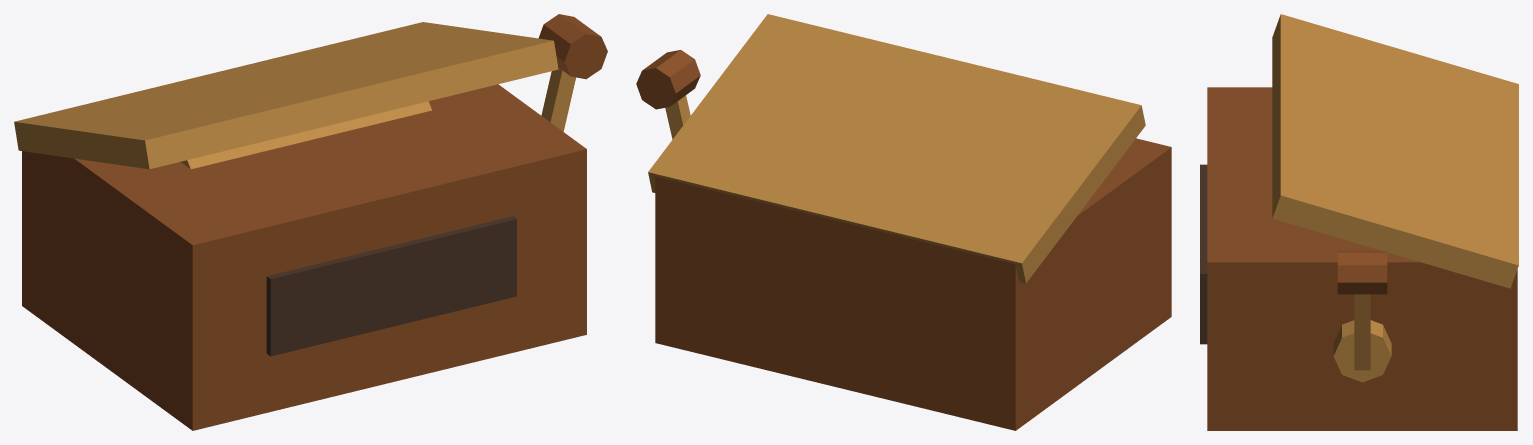
File: music_box.glb
3 renders of one model, left to right at view 1: azimuth 30°, elevation 25°; view 2: azimuth 150°, elevation 25°; view 3: azimuth 270°, elevation 25°, orthographic. The views are drawn at different scales.
Visible parts, largest first — view 1: MusicBoxBody, MusicBoxLid, Inset, CrankHandle, MusicCylinder, Crank; view 2: MusicBoxBody, MusicBoxLid, CrankHandle, Crank; view 3: MusicBoxBody, MusicBoxLid, CrankHandle, CrankHub, Inset, Crank.
Boxes of the visible parts, x1,y1,x2,y2 form: MusicBoxBody: (22,84,586,430); MusicBoxLid: (14,22,558,169); Inset: (266,216,516,356); CrankHandle: (538,14,607,79); MusicCylinder: (181,101,432,169); Crank: (541,67,575,131); MusicBoxBody: (655,138,1171,430); MusicBoxLid: (648,14,1145,283); CrankHandle: (636,50,700,109); Crank: (665,95,690,139); MusicBoxBody: (1207,87,1517,430); MusicBoxLid: (1272,14,1518,288); CrankHandle: (1337,251,1387,294); CrankHub: (1333,320,1391,382); Inset: (1200,164,1207,344); Crank: (1354,294,1370,370).
Size of the model in its own units: 5.02 by 2.55 by 3.08.
